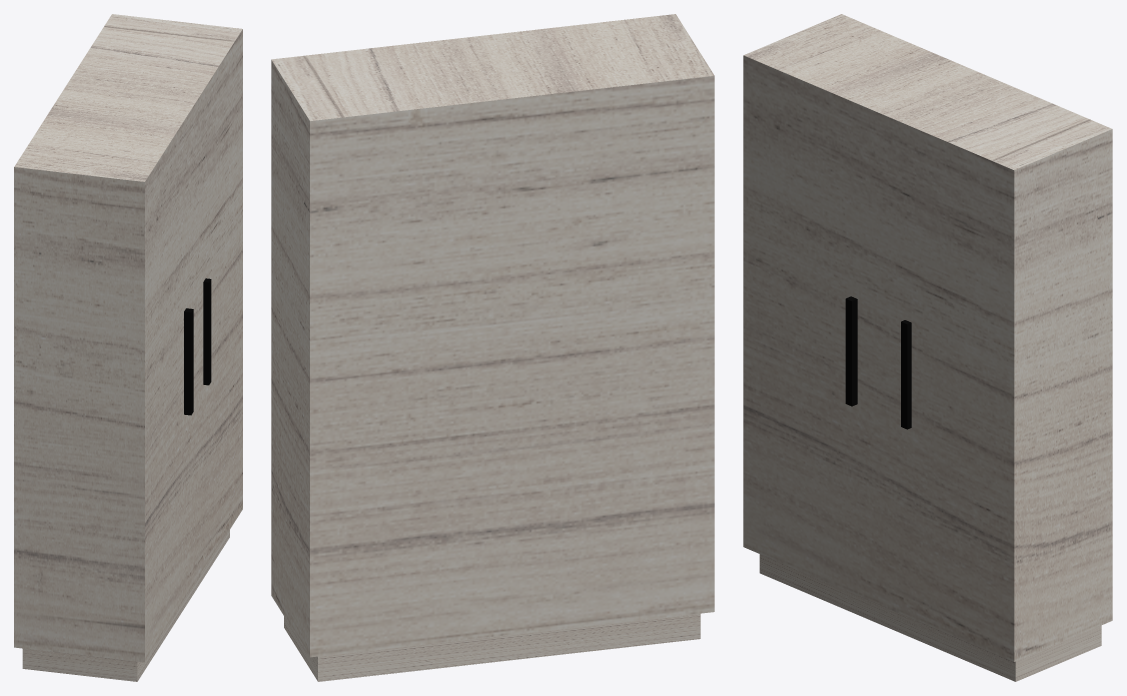
The picture shows the model from 3 angles, left to right: view 1: azimuth 30°, elevation 25°; view 2: azimuth 150°, elevation 25°; view 3: azimuth 270°, elevation 25°; orthographic projection. The views are drawn at different scales.
Visible parts, largest first — view 1: Куб.001; view 2: Куб.001; view 3: Куб.001.
Part boxes in pixels (x1,y1,x2,y2): Куб.001: [14, 14, 242, 681]; Куб.001: [271, 14, 714, 681]; Куб.001: [743, 14, 1112, 681].
Bounding box in the file's own units: 1.77 × 2.73 × 1.77.
3 materials, 1 textured.
